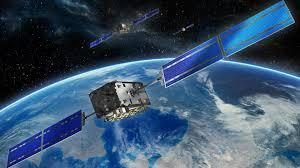body: (88, 81, 151, 121), (116, 23, 130, 34), (181, 27, 186, 32)
solar: (161, 0, 296, 89), (6, 109, 83, 168), (132, 7, 160, 27), (89, 31, 113, 49), (186, 23, 195, 29), (171, 30, 181, 35)
